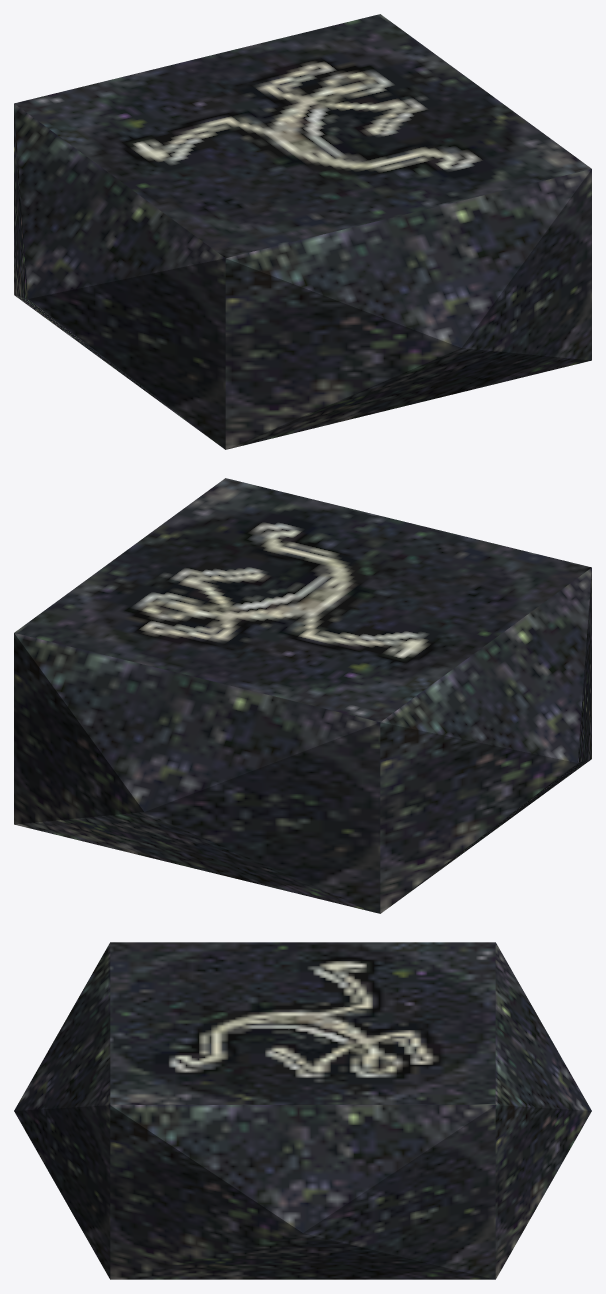
File: ITRU.glb
The picture shows the model from 3 angles, top to bottom: view 1: azimuth 30°, elevation 25°; view 2: azimuth 150°, elevation 25°; view 3: azimuth 270°, elevation 25°; orthographic projection. The views are drawn at different scales.
Visible parts, largest first — view 1: zengin; view 2: zengin; view 3: zengin.
Boxes of the visible parts, left/top/right/bottom form: zengin: left=14, top=14, right=591, bottom=449; zengin: left=14, top=478, right=591, bottom=913; zengin: left=14, top=942, right=591, bottom=1279.
Bounding box in the file's own units: 0.27 × 0.09 × 0.27.
1 material, 1 textured.
